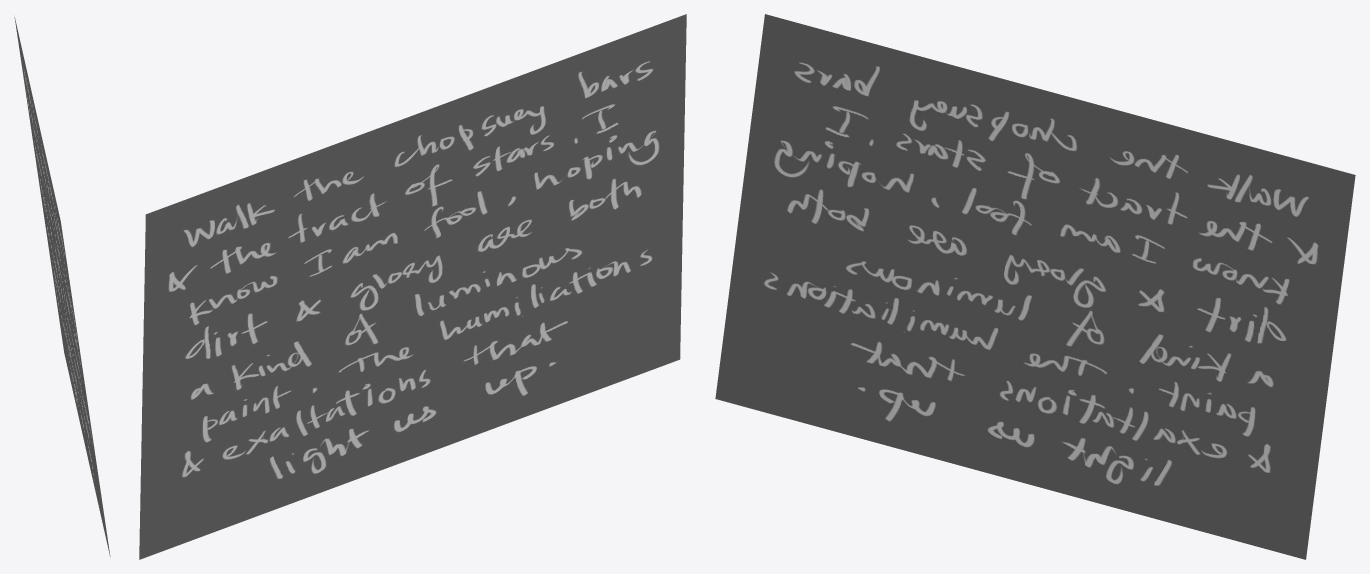
3 renders of one model, left to right at view 1: azimuth 30°, elevation 25°; view 2: azimuth 150°, elevation 25°; view 3: azimuth 270°, elevation 25°, orthographic. The views are drawn at different scales.
Parts seen in each view (by area): view 1: Plane.004; view 2: Plane.004; view 3: Plane.004.
Boxes of the visible parts, x1,y1,x2,y2 form: Plane.004: (14, 17, 110, 556); Plane.004: (139, 14, 686, 559); Plane.004: (715, 14, 1355, 559).
Size of the model in its own units: 1.26 by 1.82 by 2.56.
Materials: 1 (1 with a texture image).
